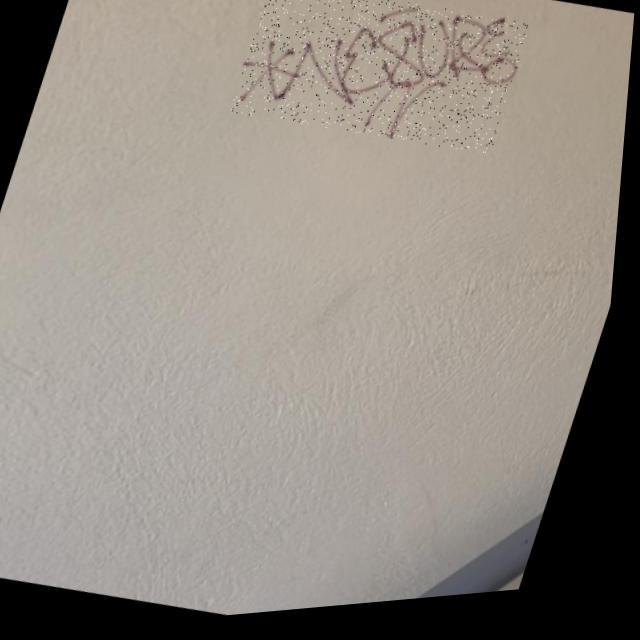-: (226, 0, 538, 183)
